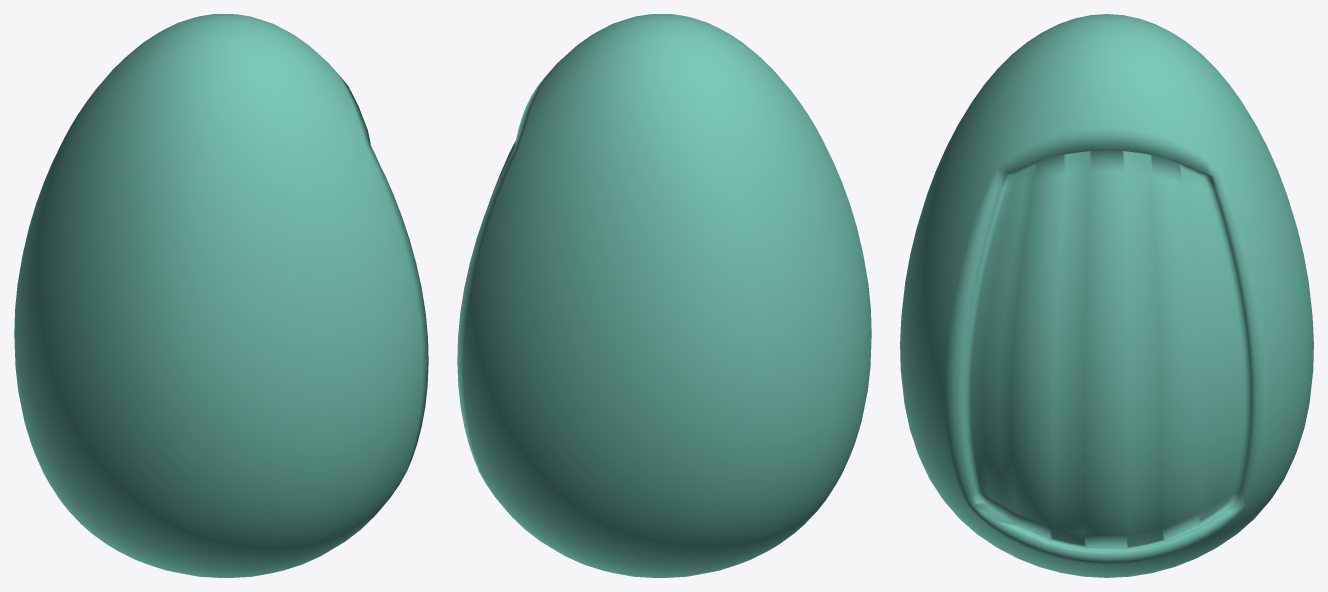
File: Slime Egg  7.fbx
The picture shows the model from 3 angles, left to right: view 1: azimuth 30°, elevation 25°; view 2: azimuth 150°, elevation 25°; view 3: azimuth 270°, elevation 25°; orthographic projection.
Parts seen in each view (by area): view 1: Slime Egg 1.007; view 2: Slime Egg 1.007; view 3: Slime Egg 1.007.
Boxes of the visible parts, bbox=[...] form: Slime Egg 1.007: bbox=[14, 14, 428, 577]; Slime Egg 1.007: bbox=[457, 14, 871, 577]; Slime Egg 1.007: bbox=[900, 14, 1313, 577].
Size of the model in its own units: 248 by 362 by 256.
